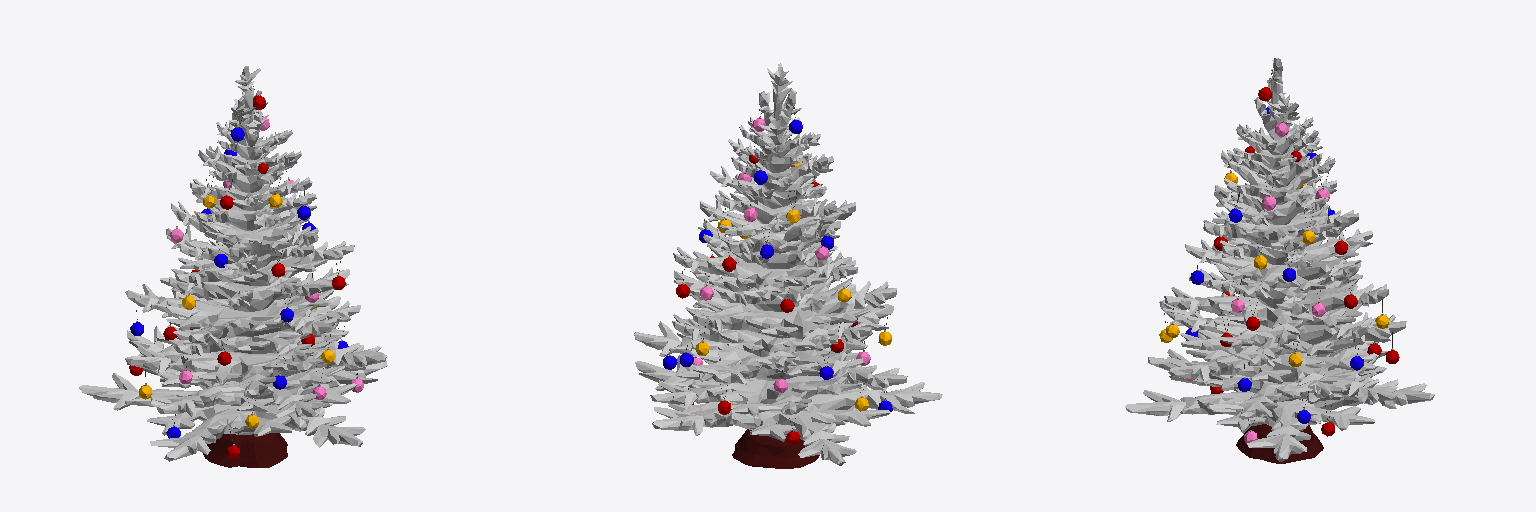
Rendered from arbol.obj.
The picture shows the model from 3 angles: view 1: azimuth 30°, elevation 25°; view 2: azimuth 150°, elevation 25°; view 3: azimuth 270°, elevation 25°; orthographic projection.
Parts seen in each view (by area): view 1: 12150_Christmas_Tree_V2_L2; view 2: 12150_Christmas_Tree_V2_L2; view 3: 12150_Christmas_Tree_V2_L2.
Boxes of the visible parts, x1=… form: 12150_Christmas_Tree_V2_L2: x1=79, y1=66, x2=387, y2=467; 12150_Christmas_Tree_V2_L2: x1=634, y1=63, x2=942, y2=468; 12150_Christmas_Tree_V2_L2: x1=1125, y1=58, x2=1434, y2=463.
Size of the model in its own units: 1.2 by 1.67 by 1.22.